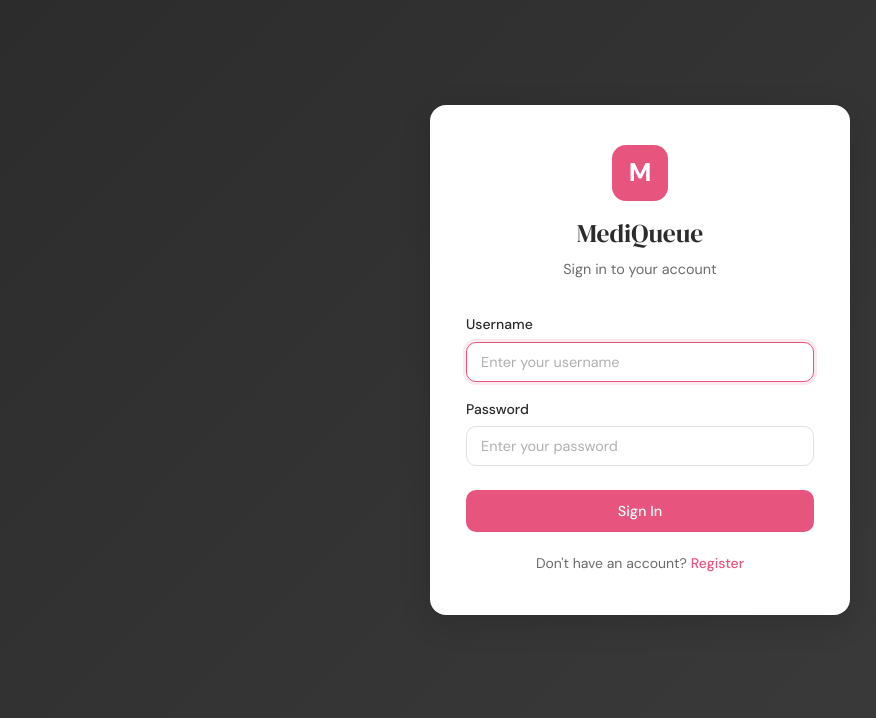
Test: Authentication Tests › should show error for invalid credentials
The image size is (876, 718).
Type "invaliduser" into the field with id "username" at [640, 362], box [466,342,814,382]
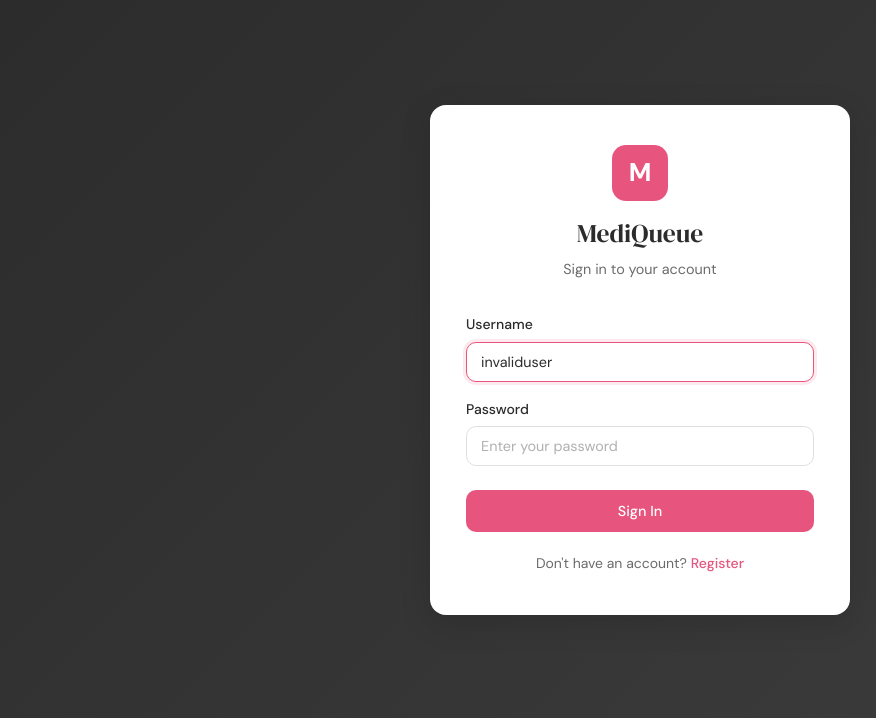
Type "invalidpass" into the password field labelled "Password" at [640, 446], box [466,426,814,466]
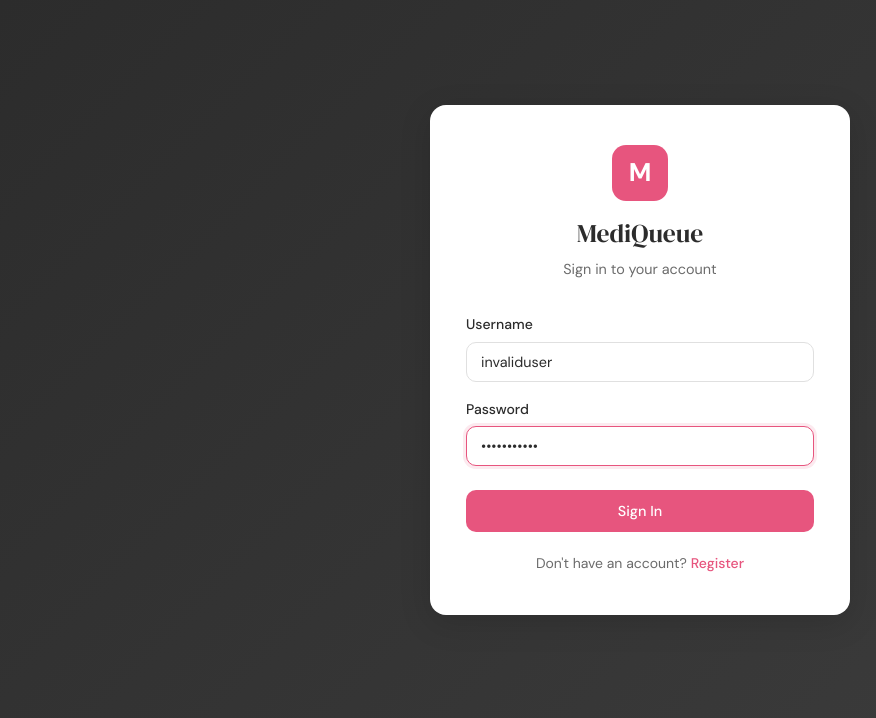
Click the submit button at [640, 511], box [466,490,814,532]
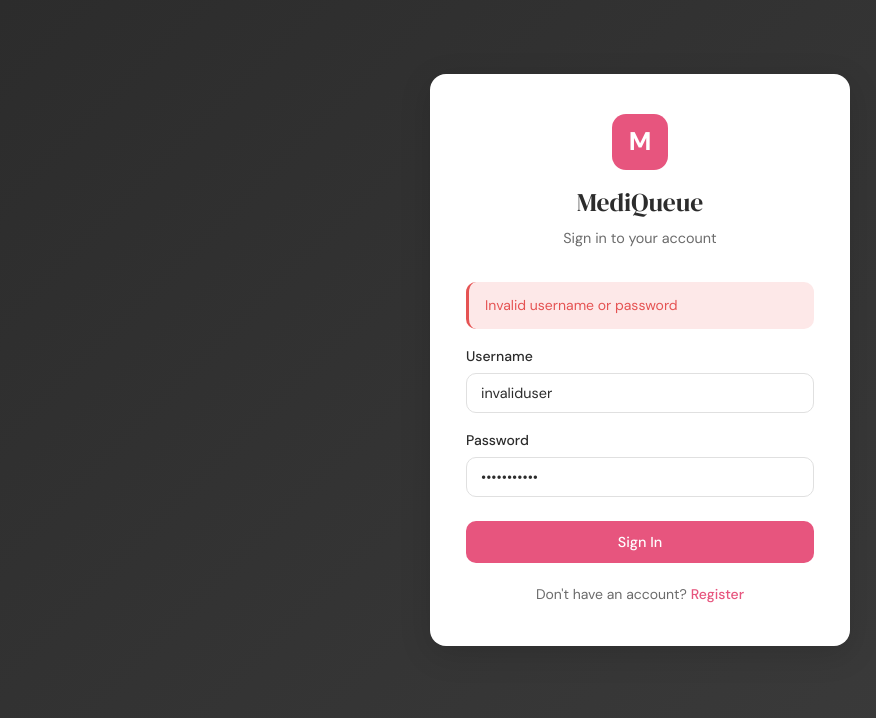
Result: the text "Invalid username or password" is shown at [466,282,814,329]
